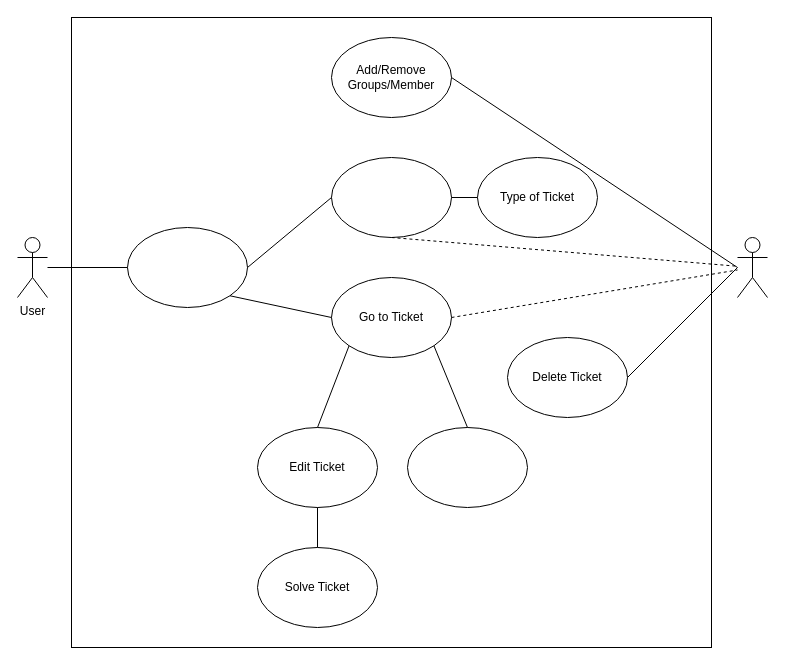
Image size: 787x665. Some labels were removed from this diagram. The centre of each missing label's shape, as x and y in pixels:
"Add Work-Log" belongs at (467,467).
"Admin" belongs at (752,267).
"Create Ticket" belongs at (391,197).
"Login/Change Account" belongs at (187,267).
